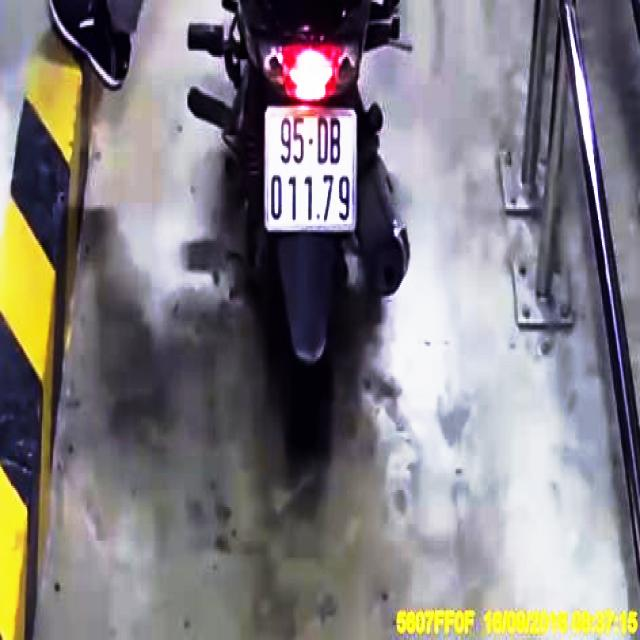license_plate: (266, 108, 357, 230)
